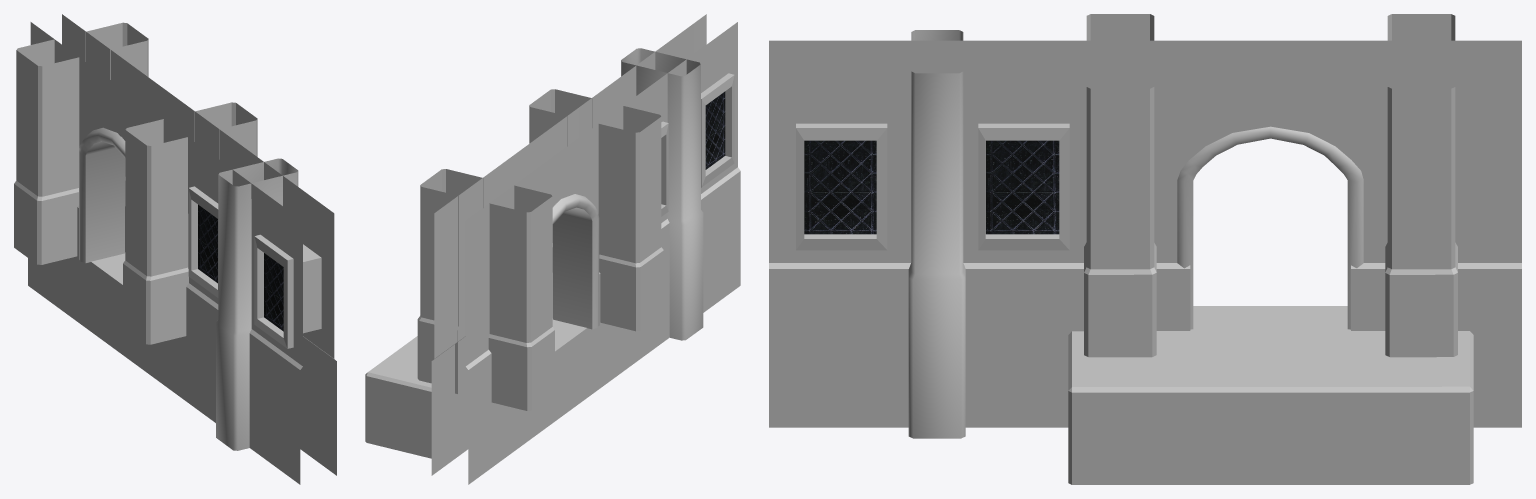
File: House_01_Face_01.FBX
3 views of the same model, side by side, from view 1: azimuth 30°, elevation 25°; view 2: azimuth 150°, elevation 25°; view 3: azimuth 270°, elevation 25° (orthographic). The views are drawn at different scales.
Parts seen in each view (by area): view 1: House_01_Face_01; view 2: House_01_Face_01; view 3: House_01_Face_01.
Part boxes in pixels (left/top/right/bottom): House_01_Face_01: left=14, top=14, right=336, bottom=484; House_01_Face_01: left=365, top=14, right=740, bottom=484; House_01_Face_01: left=769, top=14, right=1521, bottom=484.
Size of the model in its own units: 81.75 by 128 by 240.
